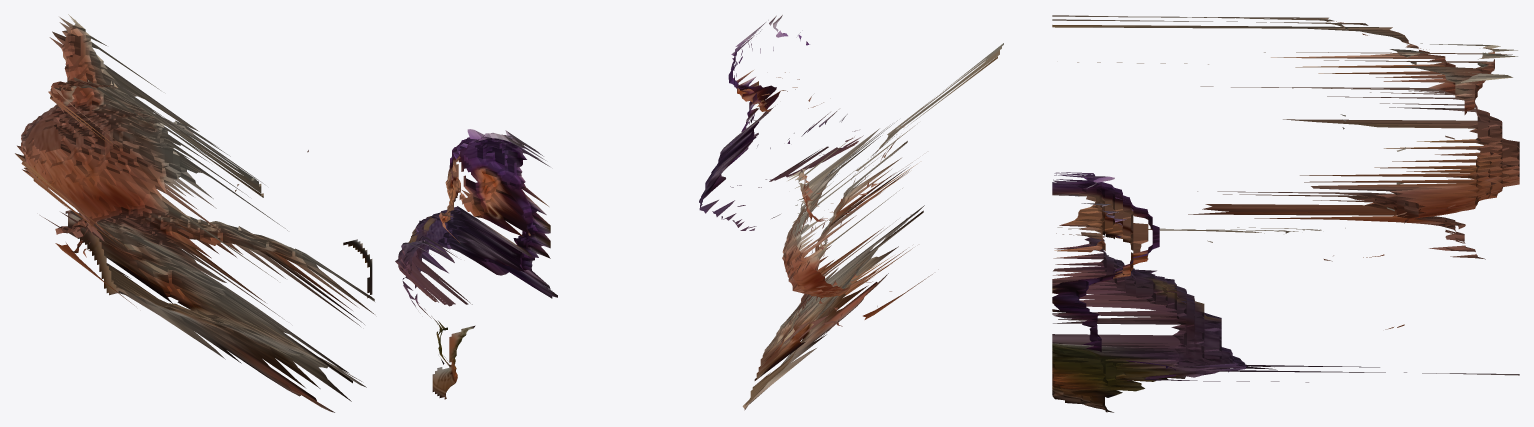
File: frame_00338.glb
The picture shows the model from 3 angles, left to right: view 1: azimuth 30°, elevation 25°; view 2: azimuth 150°, elevation 25°; view 3: azimuth 270°, elevation 25°; orthographic projection. The views are drawn at different scales.
Parts seen in each view (by area): view 1: geometry_0; view 2: geometry_0; view 3: geometry_0.
Part boxes in pixels (x1=…): geometry_0: x1=15, y1=14, x2=557, y2=412; geometry_0: x1=699, y1=15, x2=1003, y2=410; geometry_0: x1=1052, y1=15, x2=1519, y2=412.
Bounding box in the file's own units: 0.1367 × 0.1184 × 0.16.
Materials: 1 (1 with a texture image).
